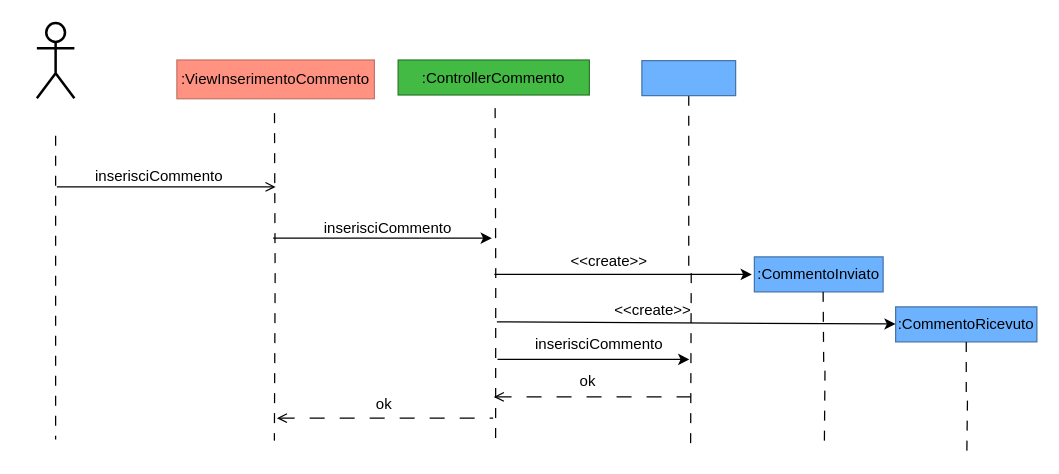
This 1059x474 diagram has some shape labels left out. Each missing label, with the centre of its shape:
:Profilo: (x=688, y=77)
Utente: (x=55, y=60)
